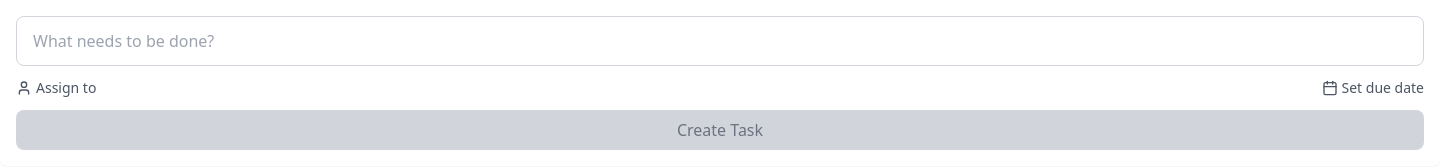
Test case: TaskCreator › shows loading state during task creation
In the field with placeholder "What needs to be done?": point(720, 41) x1=16 y1=16 x2=1424 y2=66, type "Test task"
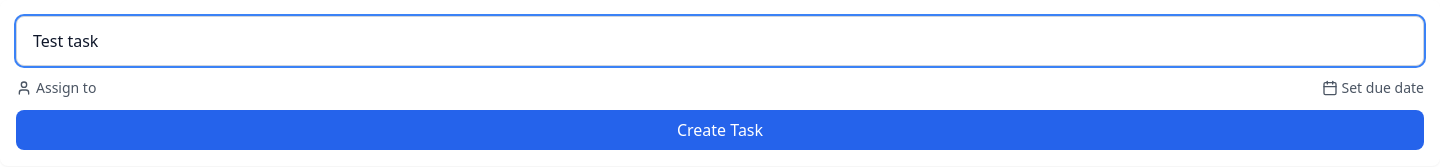
Click the button "Create Task": point(720, 130) x1=16 y1=110 x2=1424 y2=150
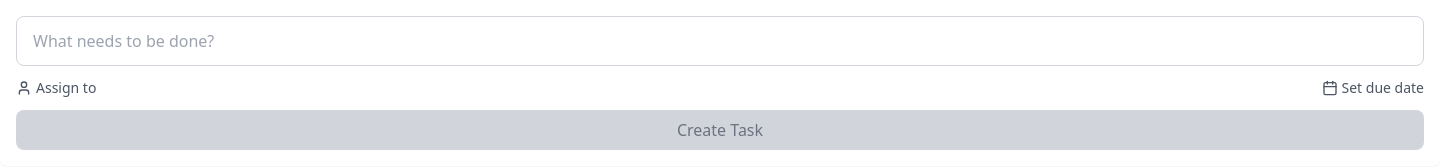
Expected: the button "Creating..." is disabled, x1=16 y1=110 x2=1424 y2=150
